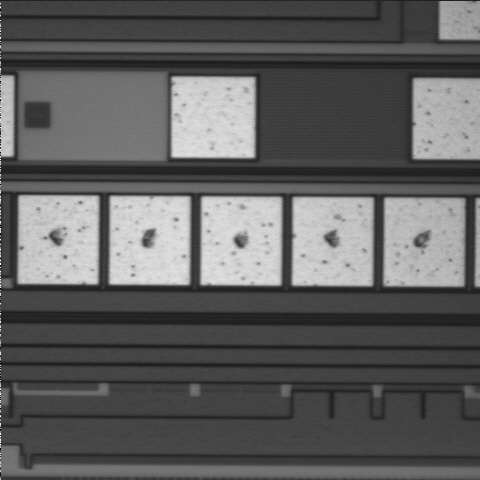pad: (110, 196, 190, 285), (18, 196, 98, 284), (201, 197, 281, 285), (293, 198, 372, 285), (384, 199, 463, 286), (172, 77, 255, 158)
